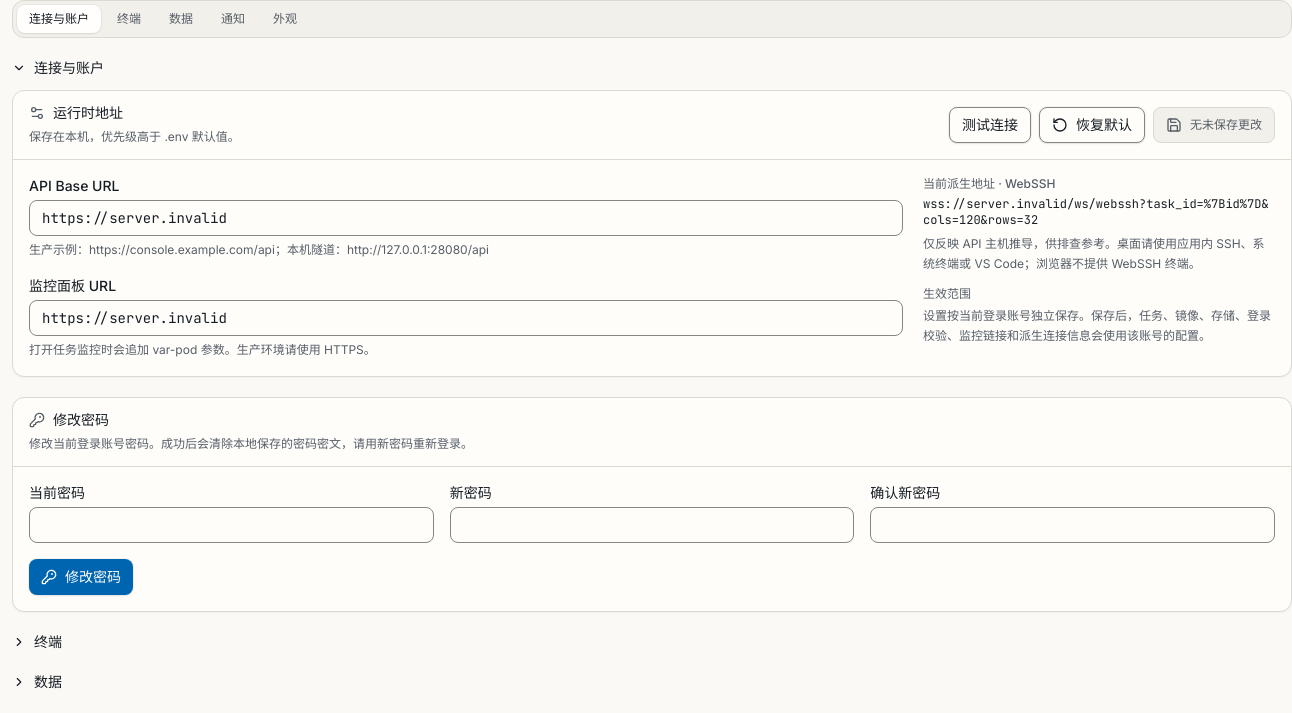
Test case: SettingsPage › submits a matching password change and clears saved ciphertext
Note: Change-password fields are the first three password inputs on the page when authenticated.
Type "old-secret" into the password field labelled "当前密码". click: point(231, 525)
box: [29,507,434,543]
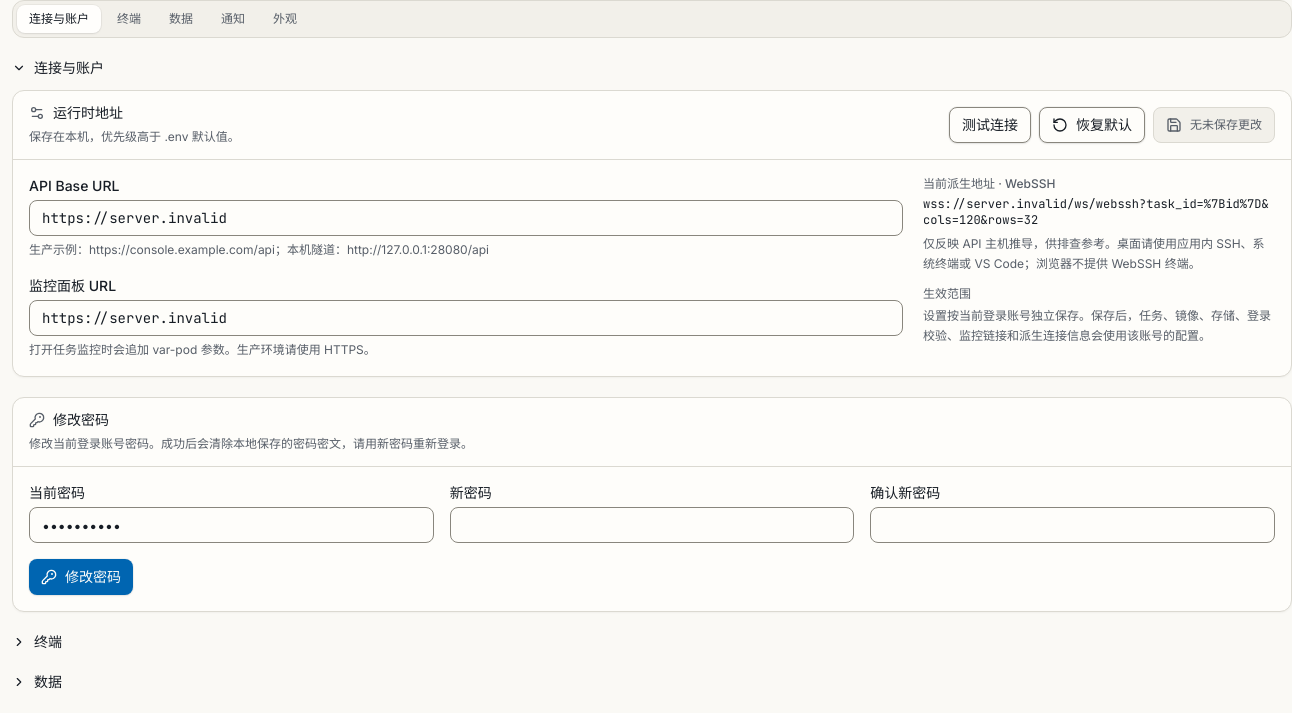
Type "new-secret" into the password field labelled "新密码". click: point(652, 525)
box: [450,507,854,543]
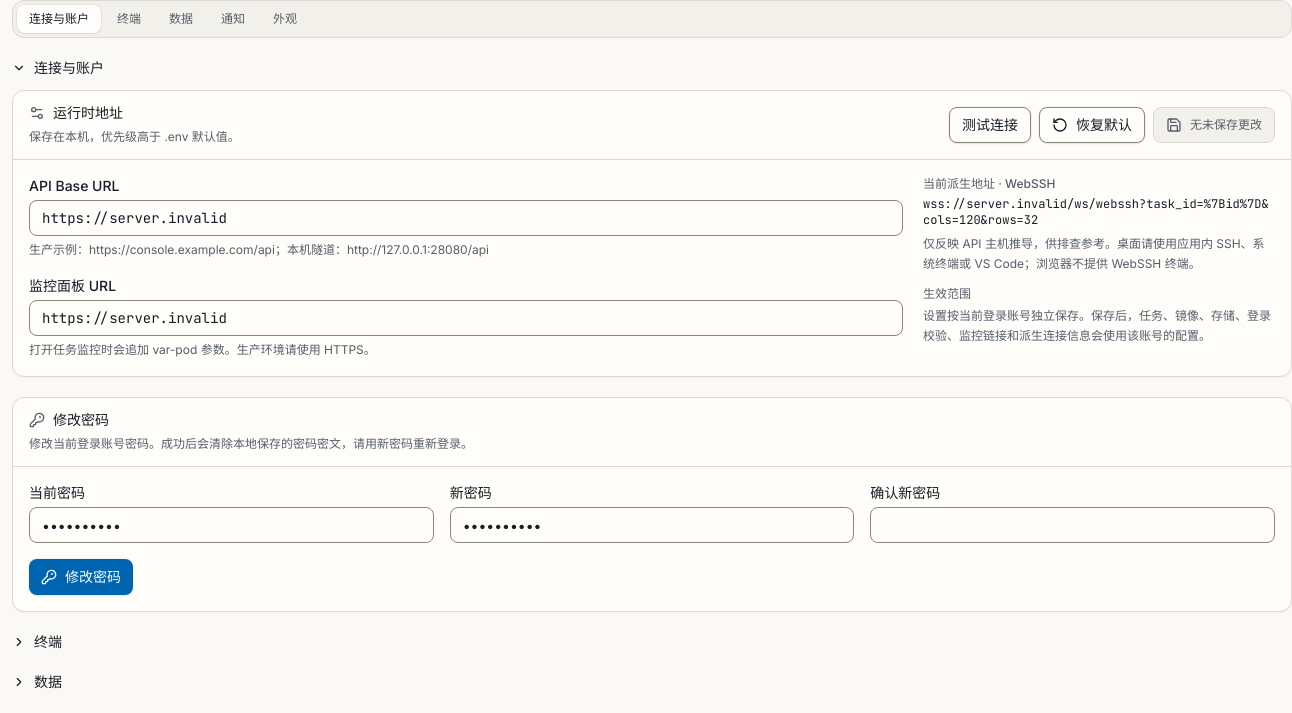
Type "new-secret" into the password field labelled "确认新密码". click: point(1073, 525)
box: [870,507,1275,543]
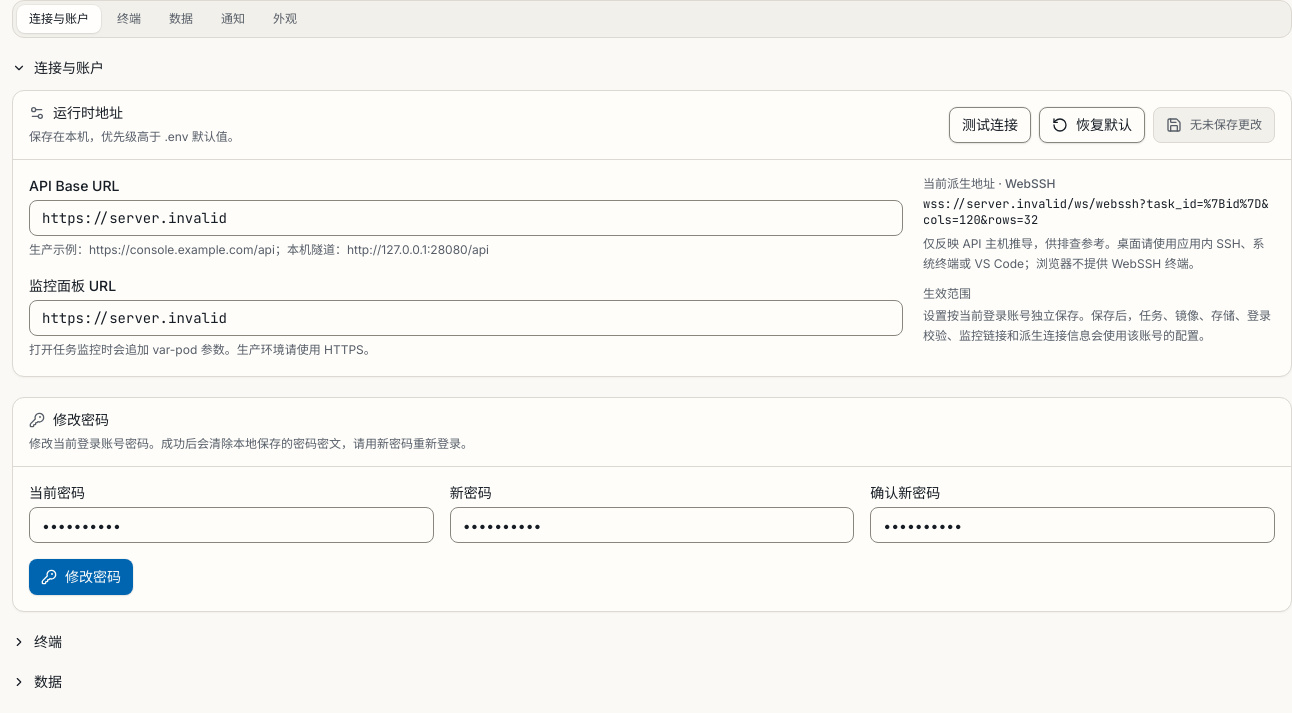
Click the button "修改密码". click: point(81, 577)
box: [29,559,133,595]
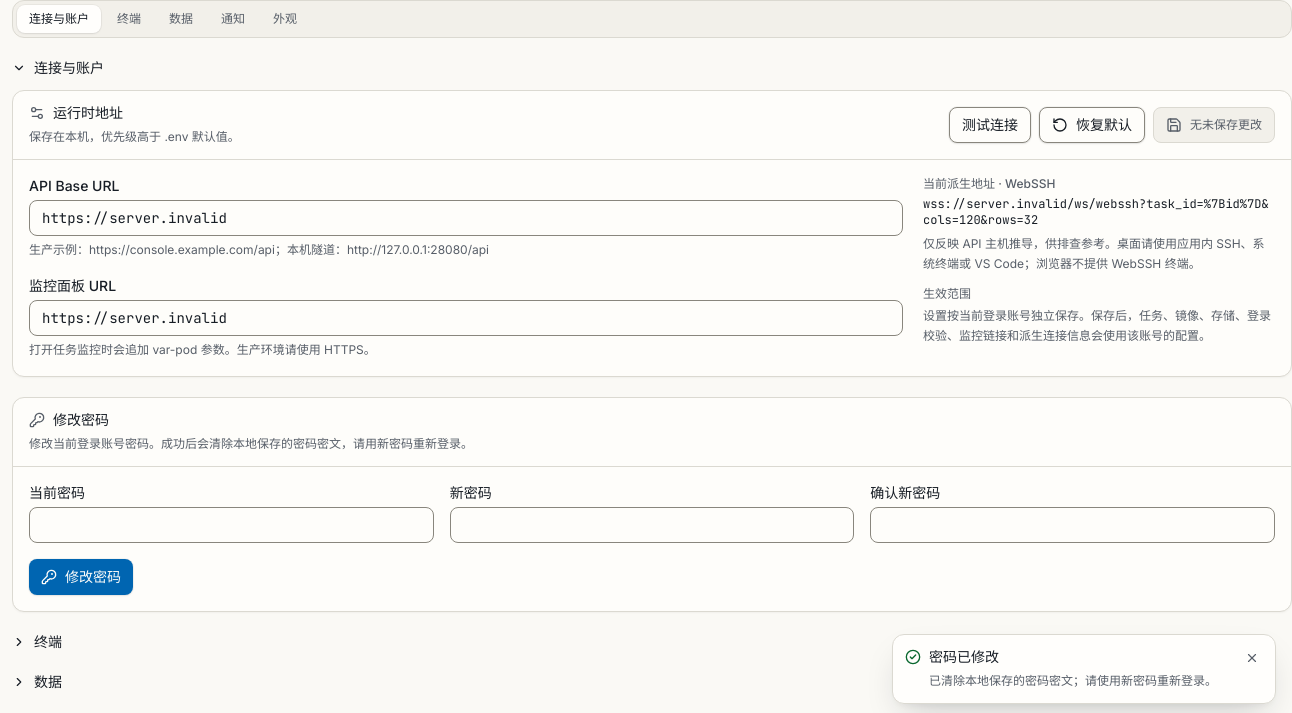
Check: the text "密码已修改" is shown, box [929,648,999,665]
